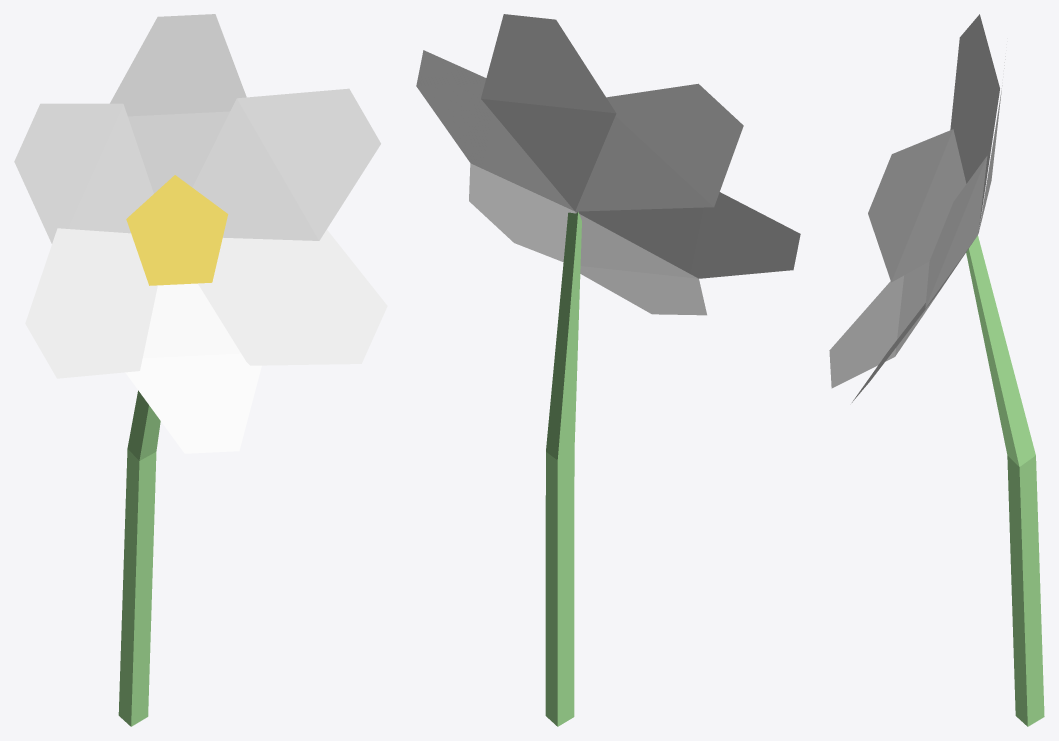
Rendered from Flower_e_OneS_03.fbx.
3 renders of one model, left to right at view 1: azimuth 30°, elevation 25°; view 2: azimuth 150°, elevation 25°; view 3: azimuth 270°, elevation 25°, orthographic. The views are drawn at different scales.
Parts seen in each view (by area): view 1: Flower_e_OneS_03; view 2: Flower_e_OneS_03; view 3: Flower_e_OneS_03.
Boxes of the visible parts, bbox=[...] form: Flower_e_OneS_03: bbox=[14, 14, 387, 726]; Flower_e_OneS_03: bbox=[416, 14, 800, 726]; Flower_e_OneS_03: bbox=[829, 14, 1044, 726].
Bounding box in the file's own units: 20.32 × 36.6 × 10.29.
